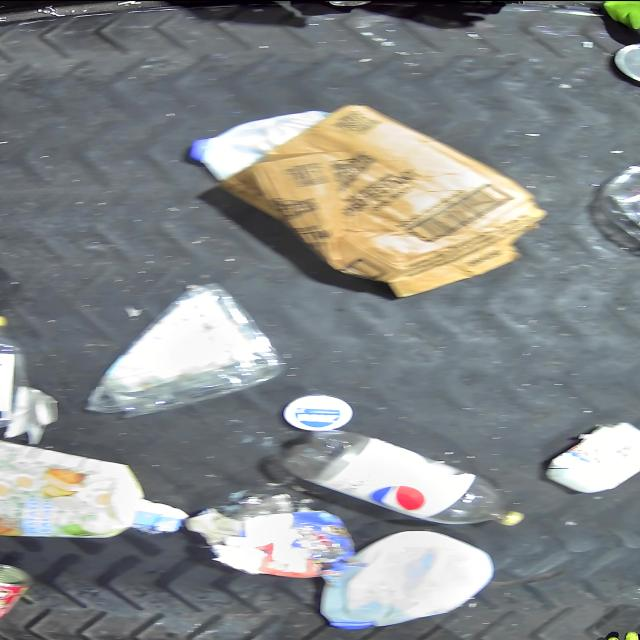can: (0, 562, 29, 620)
milk_jug: (316, 530, 497, 630), (187, 108, 331, 178)
plastic_bottle: (291, 432, 518, 526), (0, 314, 29, 428)
